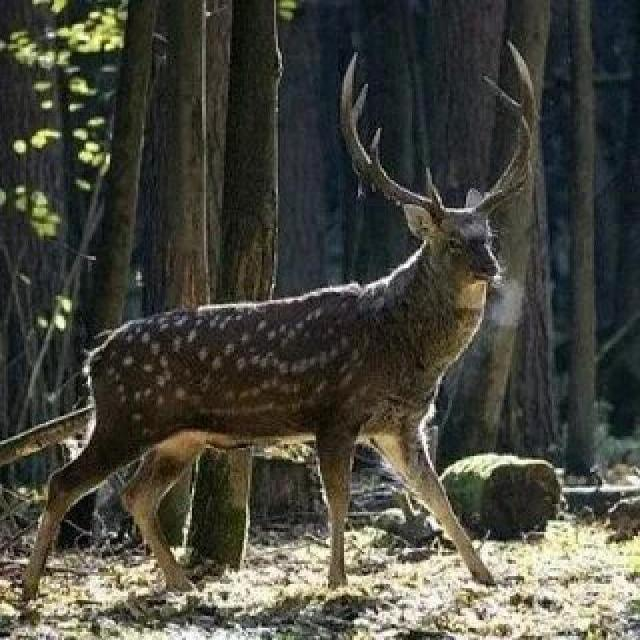deer: (3, 40, 545, 589)
